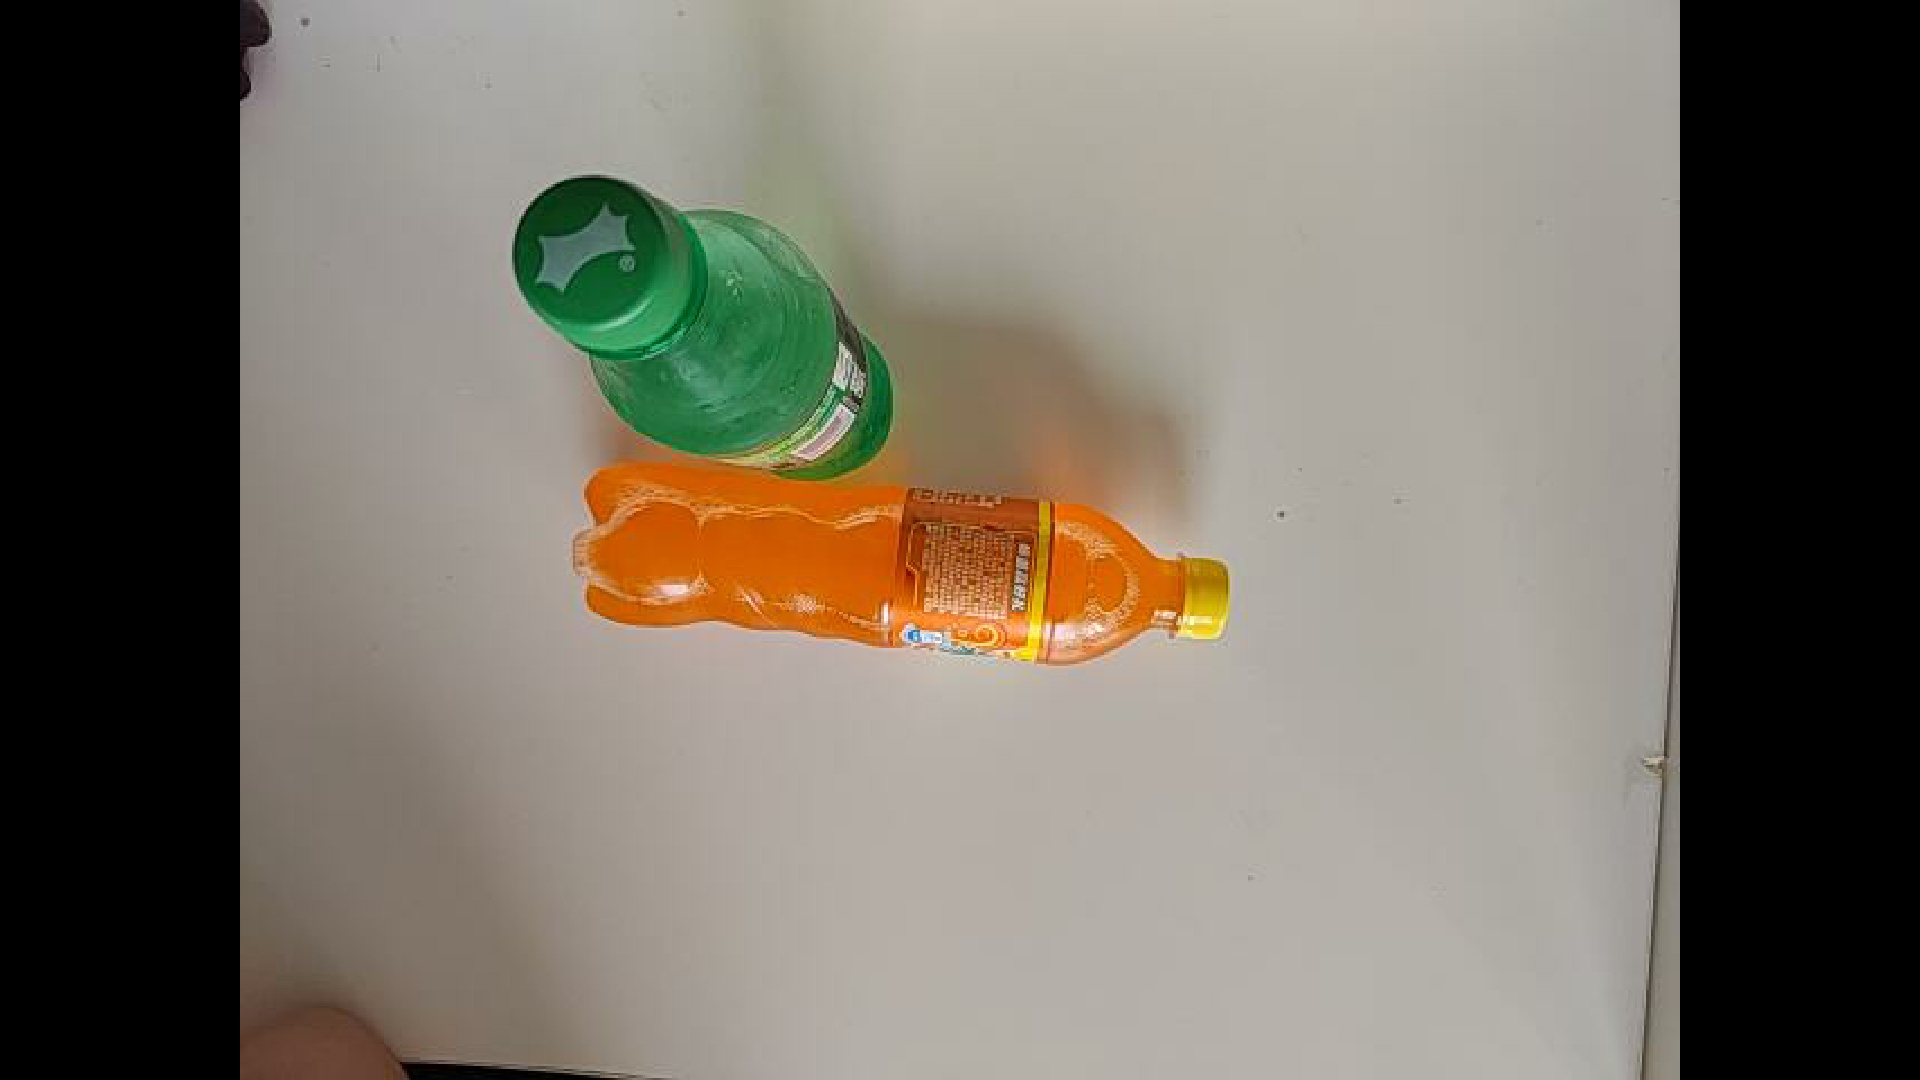fenta: (547, 448, 1242, 658)
sprite: (512, 174, 895, 483)
